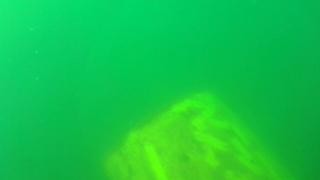pipe: (95, 91, 299, 179)
